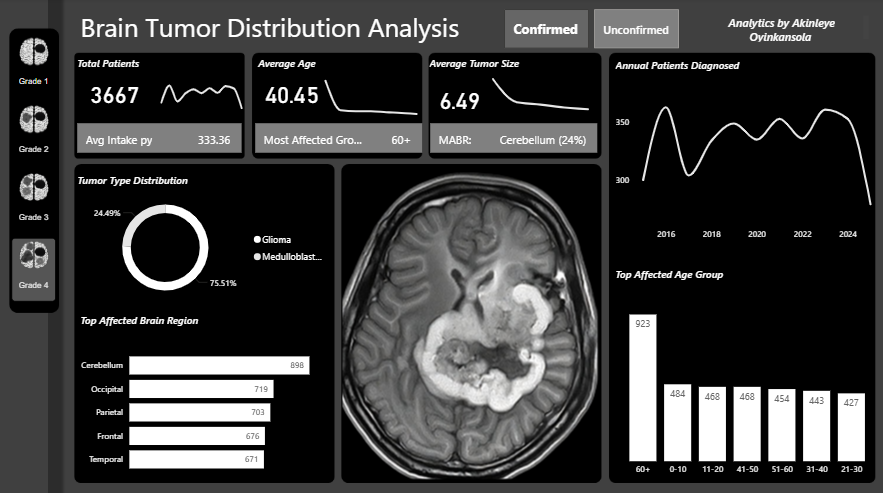

Layout of this report page (visuals, bound fields, positions):
{"tool":"powerbi","page":{"name":"Page 1","canvas":[1280,720],"ordinal":0},"visuals":[{"type":"card","fields":{"Values":["Count(Brain Tumor Data b.Patient ID)"]},"box":[109.9,98.3,117.1,78.1],"z":0},{"type":"lineChart","fields":{"Category":["Brain Tumor Data b.Date of Diagnosis.Variation.Date Hierarchy.Year"],"Y":["CountNonNull(Brain Tumor Data b.Patient ID)"]},"box":[221.2,98.3,146,78.1],"z":1000},{"type":"textbox","box":[105.5,78.1,115.7,39],"z":2000},{"type":"textbox","box":[367.2,78.1,115.7,39],"z":3000},{"type":"card","fields":{"Values":["Avg(Brain Tumor Data.Age)"]},"box":[367.2,98.3,115.7,78.1],"z":4000},{"type":"lineChart","fields":{"Y":["CountNonNull(Brain Tumor Data b.Patient ID)"],"Category":["Brain Tumor Data.Age Group"]},"box":[459.8,98.3,159,78.1],"z":5000},{"type":"textbox","box":[618.8,78.1,153.3,39],"z":6000},{"type":"card","fields":{"Values":["Avg(Brain Tumor Data.Tumor Size (cm))"]},"box":[620.2,117.1,94,59.3],"z":7000},{"type":"lineChart","fields":{"Category":["Brain Tumor Data.Affected Brain Region"],"Y":["Sum(Brain Tumor Data.Tumor Size (cm))"]},"box":[696.9,98.3,174.9,78.1],"z":8000},{"type":"cardVisual","fields":{"Data":["CountNonNull(Brain Tumor Data.Patient ID)"]},"box":[109.9,176.4,247.2,52],"z":9000},{"type":"cardVisual","fields":{"Data":["CountNonNull(Brain Tumor Data.Patient ID)"]},"box":[367.2,176.4,251.6,52],"z":10000},{"type":"cardVisual","fields":{"Data":["CountNonNull(Brain Tumor Data.Patient ID)"]},"box":[620.2,176.4,251.6,52],"z":11000},{"type":"advancedSlicerVisual","fields":{"Values":["Brain Tumor Data.Histology Confirmation"]},"box":[727.2,11.6,263.1,66.5],"z":12000},{"type":"ChicletSlicer1448559807354","fields":{"Category":["Tumor Images b.Tumor Grade"],"Image":["Tumor Images b.Icon URL"]},"box":[11.6,44.8,94,404.8],"z":12001},{"type":"imageDB603108E3FF4EBFB8047F5653368E8C","fields":{"imageUrl":["Tumor Images b.Image URL"]},"box":[493,247.2,378.8,452.5],"z":12003},{"type":"donutChart","fields":{"Category":["Brain Tumor Data.Tumor Type"],"Y":["CountNonNull(Brain Tumor Data.Patient ID)"]},"box":[109.9,271.8,373,177.8],"z":12004},{"type":"textbox","box":[109.9,247.2,205.3,36.1],"z":12005},{"type":"clusteredBarChart","fields":{"Category":["Brain Tumor Data.Affected Brain Region"],"Y":["CountNonNull(Brain Tumor Data.Patient ID)"]},"box":[109.9,491.6,373,208.2],"z":12006},{"type":"textbox","box":[114.2,449.6,195.2,41.9],"z":12007},{"type":"lineChart","fields":{"Category":["Brain Tumor Data.Date of Diagnosis.Variation.Date Hierarchy.Year"],"Y":["CountNonNull(Brain Tumor Data.Patient ID)"]},"box":[887.7,115.7,391.8,244.3],"z":12008},{"type":"textbox","box":[887.7,81,205.3,36.1],"z":12009},{"type":"clusteredColumnChart","fields":{"Category":["Brain Tumor Data.Age Group"],"Y":["CountNonNull(Brain Tumor Data.Patient ID)"]},"box":[887.7,419.3,391.8,280.5],"z":12010},{"type":"textbox","box":[887.7,383.1,205.3,36.1],"z":12011},{"type":"textbox","box":[114.2,11.6,626,66.5],"z":12012},{"type":"textbox","box":[1012,20.2,251.6,47.7],"z":12013}]}

Visuals, with their boxes in screenshot pixels (x1, y1, x2, y2), scaled from the page's 1280x720 canvas onto the 883x493 screenshot:
card - Count(Brain Tumor Data b.Patient ID): pyautogui.locateOnScreen(76, 67, 157, 121)
lineChart - Brain Tumor Data b.Date of Diagnosis.Variation.Date Hierarchy.Year x CountNonNull(Brain Tumor Data b.Patient ID): pyautogui.locateOnScreen(153, 67, 253, 121)
textbox: pyautogui.locateOnScreen(73, 53, 153, 80)
textbox: pyautogui.locateOnScreen(253, 53, 333, 80)
card - Avg(Brain Tumor Data.Age): pyautogui.locateOnScreen(253, 67, 333, 121)
lineChart - CountNonNull(Brain Tumor Data b.Patient ID) x Brain Tumor Data.Age Group: pyautogui.locateOnScreen(317, 67, 427, 121)
textbox: pyautogui.locateOnScreen(427, 53, 533, 80)
card - Avg(Brain Tumor Data.Tumor Size (cm)): pyautogui.locateOnScreen(428, 80, 493, 121)
lineChart - Brain Tumor Data.Affected Brain Region x Sum(Brain Tumor Data.Tumor Size (cm)): pyautogui.locateOnScreen(481, 67, 601, 121)
cardVisual - CountNonNull(Brain Tumor Data.Patient ID): pyautogui.locateOnScreen(76, 121, 246, 156)
cardVisual - CountNonNull(Brain Tumor Data.Patient ID): pyautogui.locateOnScreen(253, 121, 427, 156)
cardVisual - CountNonNull(Brain Tumor Data.Patient ID): pyautogui.locateOnScreen(428, 121, 601, 156)
advancedSlicerVisual - Brain Tumor Data.Histology Confirmation: pyautogui.locateOnScreen(502, 8, 683, 53)
ChicletSlicer1448559807354 - Tumor Images b.Tumor Grade x Tumor Images b.Icon URL: pyautogui.locateOnScreen(8, 31, 73, 308)
imageDB603108E3FF4EBFB8047F5653368E8C - Tumor Images b.Image URL: pyautogui.locateOnScreen(340, 169, 601, 479)
donutChart - Brain Tumor Data.Tumor Type x CountNonNull(Brain Tumor Data.Patient ID): pyautogui.locateOnScreen(76, 186, 333, 308)
textbox: pyautogui.locateOnScreen(76, 169, 217, 194)
clusteredBarChart - Brain Tumor Data.Affected Brain Region x CountNonNull(Brain Tumor Data.Patient ID): pyautogui.locateOnScreen(76, 337, 333, 479)
textbox: pyautogui.locateOnScreen(79, 308, 213, 337)
lineChart - Brain Tumor Data.Date of Diagnosis.Variation.Date Hierarchy.Year x CountNonNull(Brain Tumor Data.Patient ID): pyautogui.locateOnScreen(612, 79, 882, 246)
textbox: pyautogui.locateOnScreen(612, 55, 754, 80)
clusteredColumnChart - Brain Tumor Data.Age Group x CountNonNull(Brain Tumor Data.Patient ID): pyautogui.locateOnScreen(612, 287, 882, 479)
textbox: pyautogui.locateOnScreen(612, 262, 754, 287)
textbox: pyautogui.locateOnScreen(79, 8, 511, 53)
textbox: pyautogui.locateOnScreen(698, 14, 872, 46)
